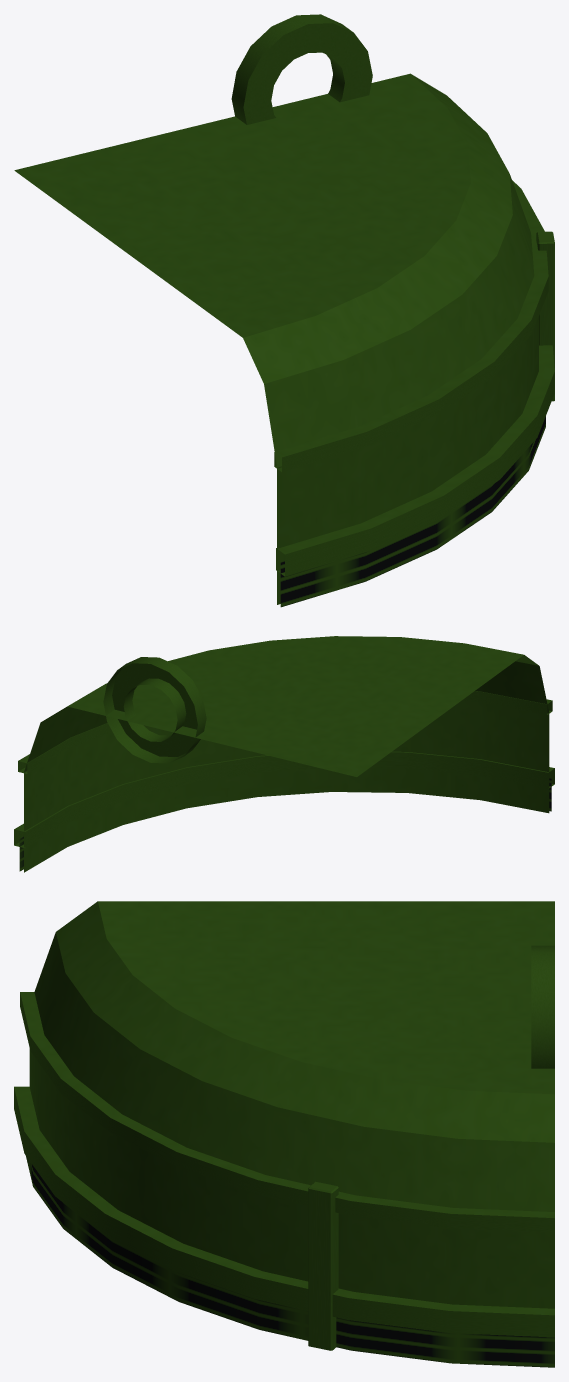
File: cell_38.obj
3 views of the same model, one above another, from view 1: azimuth 30°, elevation 25°; view 2: azimuth 150°, elevation 25°; view 3: azimuth 270°, elevation 25° (orthographic). The views are drawn at different scales.
Parts seen in each view (by area): view 1: cell_38; view 2: cell_38; view 3: cell_38.
Part boxes in pixels (x1,y1,x2,y2): cell_38: [14, 14, 554, 607]; cell_38: [14, 636, 554, 872]; cell_38: [14, 901, 554, 1367].
Bounding box in the file's own units: 0.7481 × 0.5 × 0.7481.
